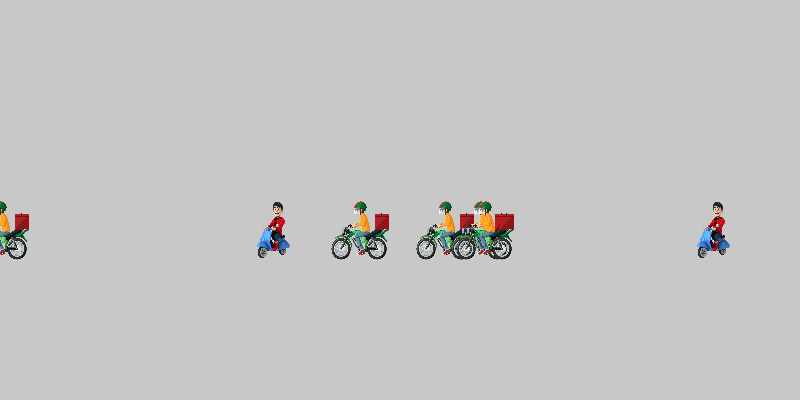helmet: (330, 200, 390, 260), (415, 200, 475, 260), (450, 200, 510, 260), (455, 200, 515, 260), (0, 200, 30, 260)
no_helmet: (245, 200, 305, 260), (685, 200, 745, 260)
